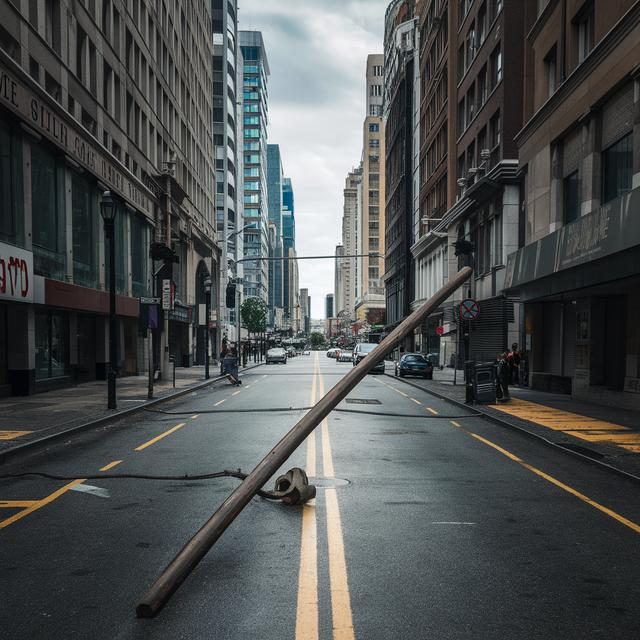Inclined Pole: (122, 262, 478, 622)
